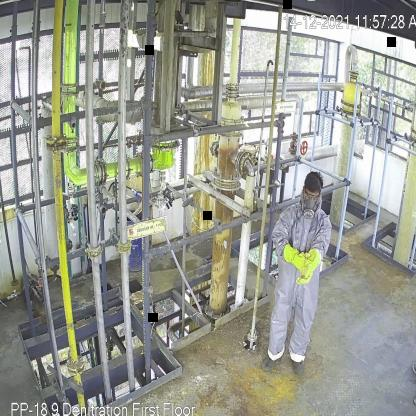goggles: (303, 190, 321, 200)
mask: (301, 197, 318, 219)
